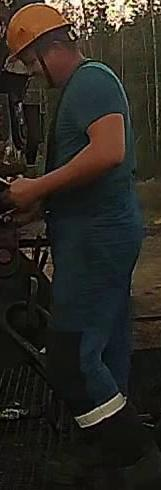helmet: (3, 2, 74, 68)
